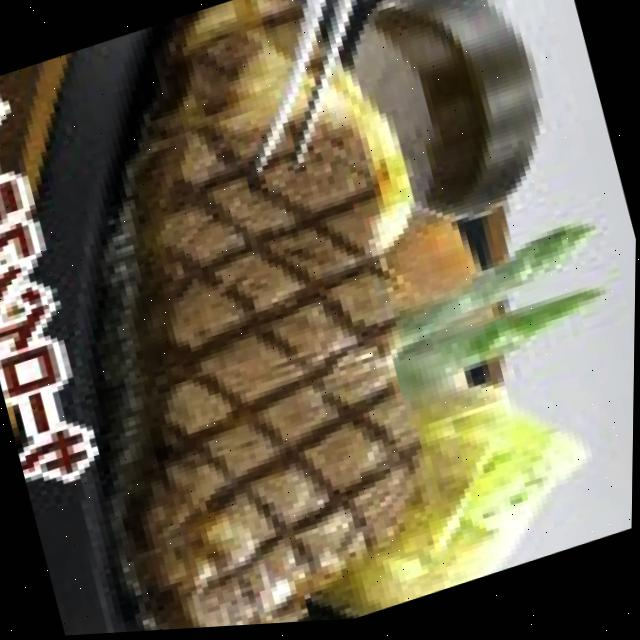牛肉菜式: (12, 0, 500, 639)
